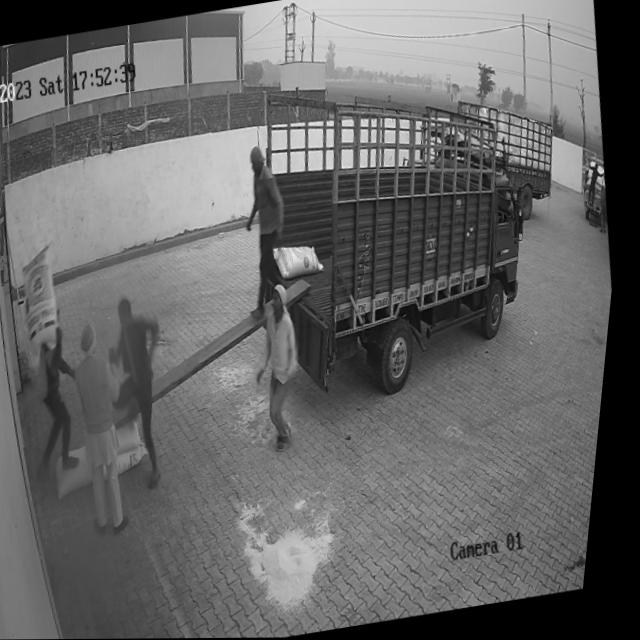sack: (16, 243, 79, 371), (59, 443, 106, 499), (274, 239, 332, 282), (119, 417, 152, 454), (123, 445, 160, 475)
